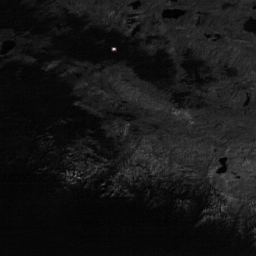Target: (111, 45, 116, 50)
